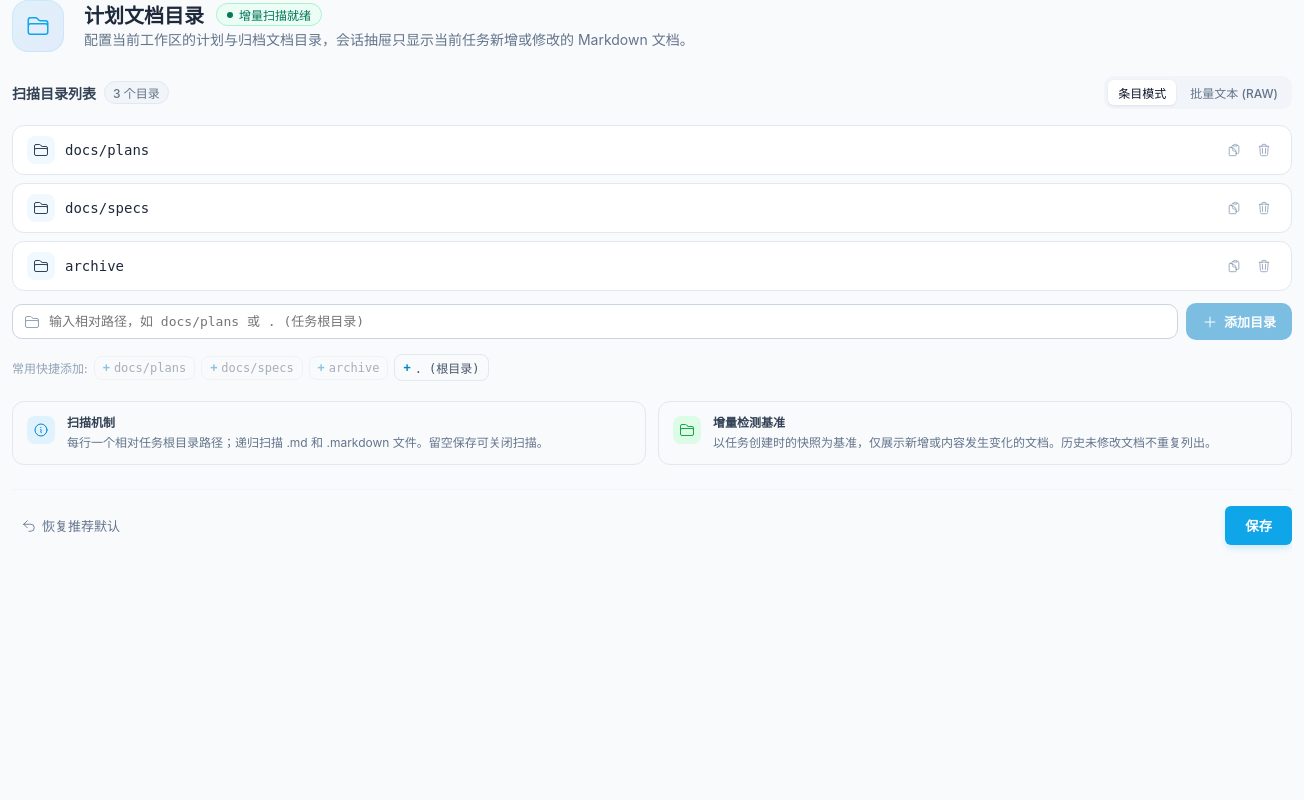
SettingsPlanDocsSection › allows adding a new path item via input
In the field with placeholder "输入相对路径，如 docs/plans 或 . (任务根目录)": [595, 322] box [12, 304, 1178, 339], type "docs/api-reference"
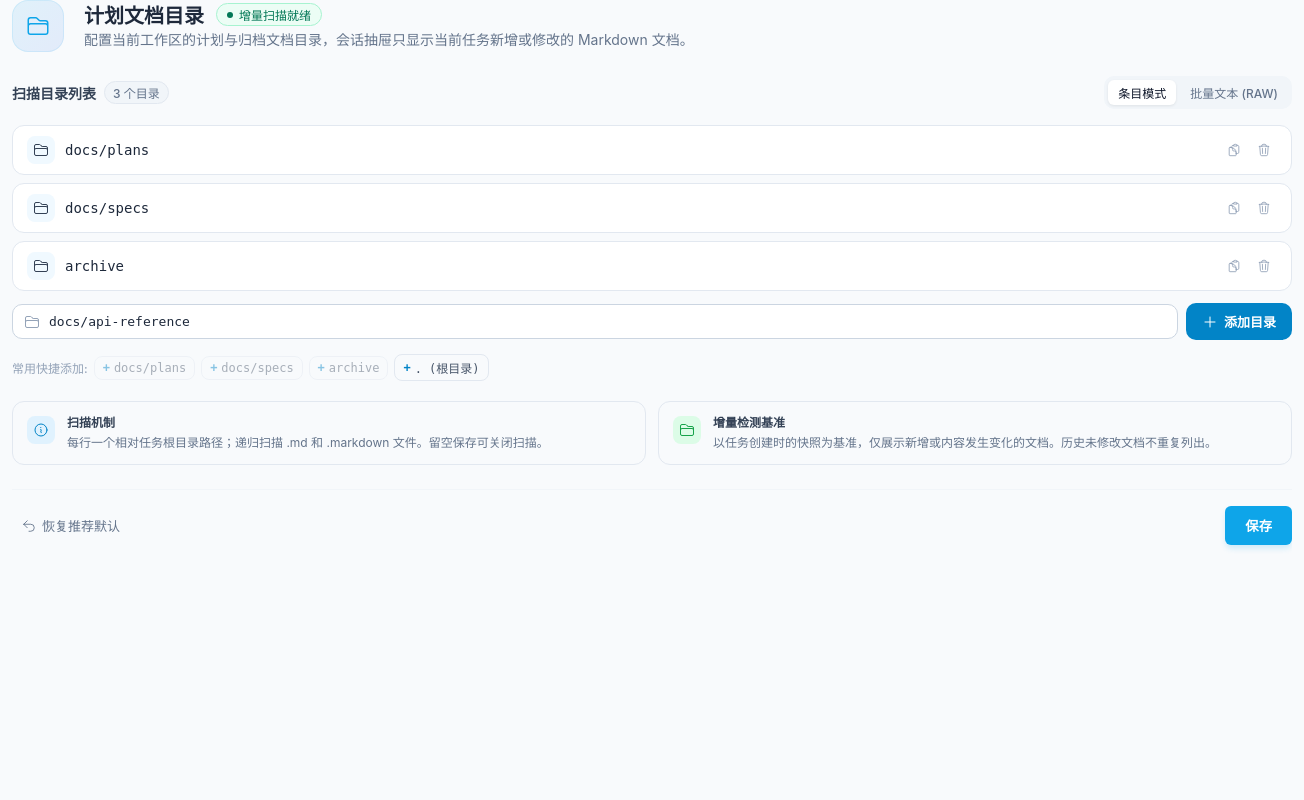
Click the button with class "btn-add-path": [1239, 322] box [1186, 303, 1292, 340]
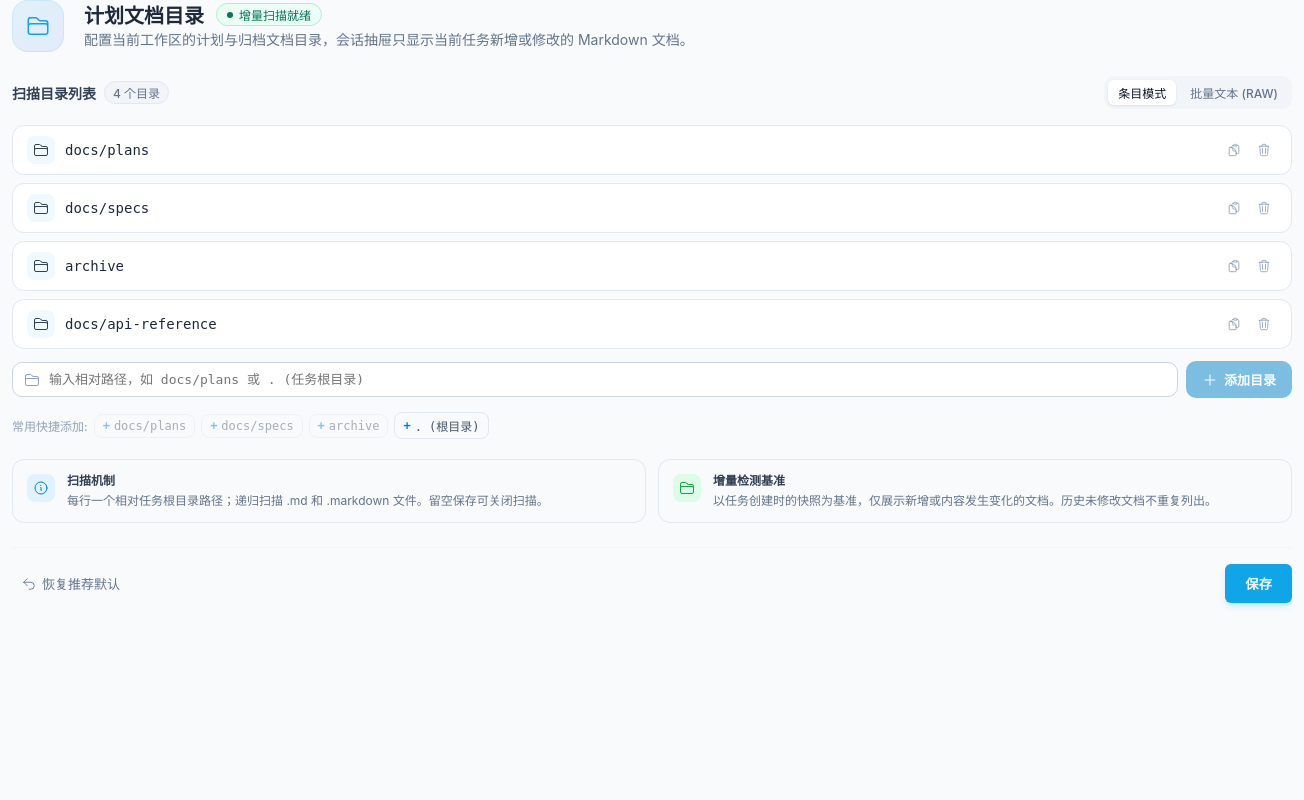
Check: the text "docs/api-reference" is shown, box [65, 316, 217, 332]
